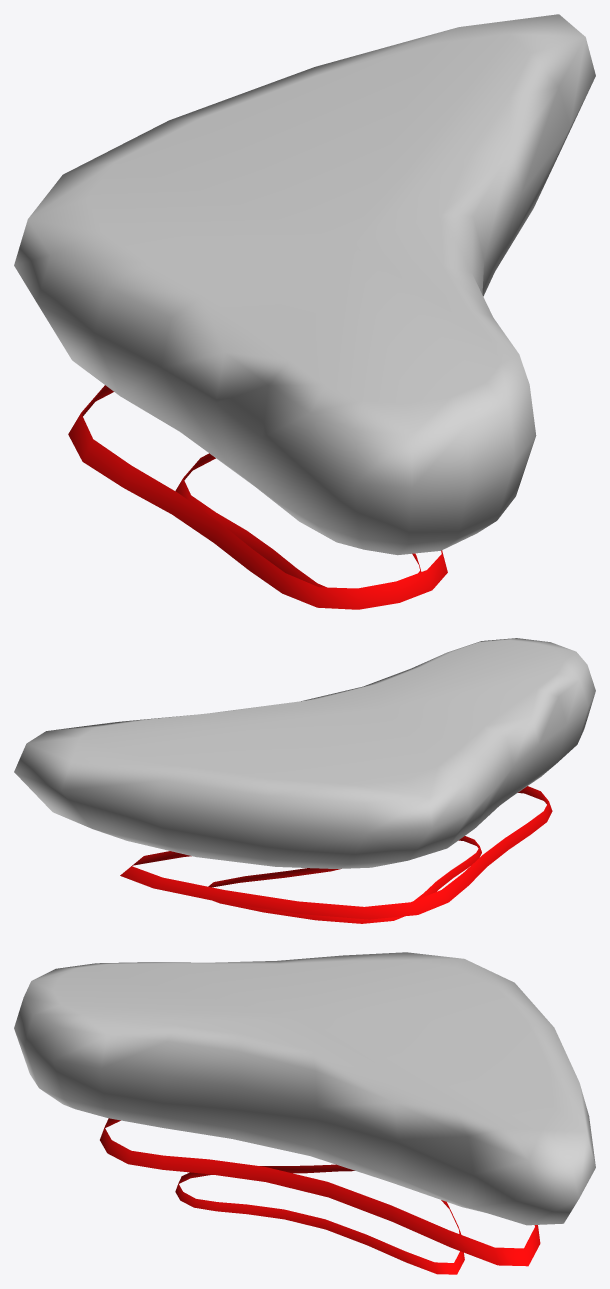
File: SM_Table_005.fbx
3 renders of one model, top to bottom at view 1: azimuth 30°, elevation 25°; view 2: azimuth 150°, elevation 25°; view 3: azimuth 270°, elevation 25°, orthographic. The views are drawn at different scales.
Visible parts, largest first — view 1: polySurface19; view 2: polySurface19; view 3: polySurface19.
Part boxes in pixels (left/top/right/bottom): polySurface19: left=14, top=14, right=595, bottom=609; polySurface19: left=14, top=638, right=595, bottom=923; polySurface19: left=14, top=952, right=595, bottom=1274.
Size of the model in its own units: 256 by 105 by 289.
